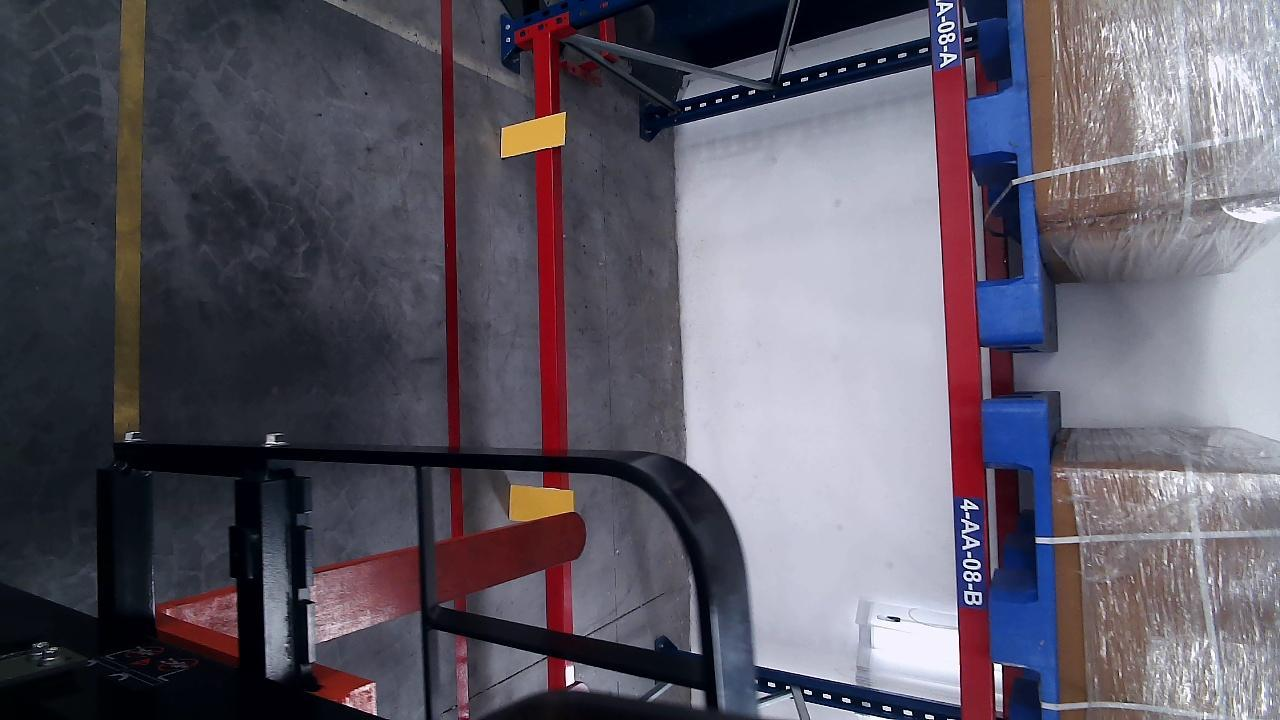h_rack: (928, 2, 992, 718), (532, 34, 572, 692)
orange_strip: (501, 115, 566, 157)
red_line: (440, 0, 475, 720)
small_pallet: (958, 1, 1040, 332), (983, 405, 1062, 720)
yellow_line: (110, 0, 148, 440)
